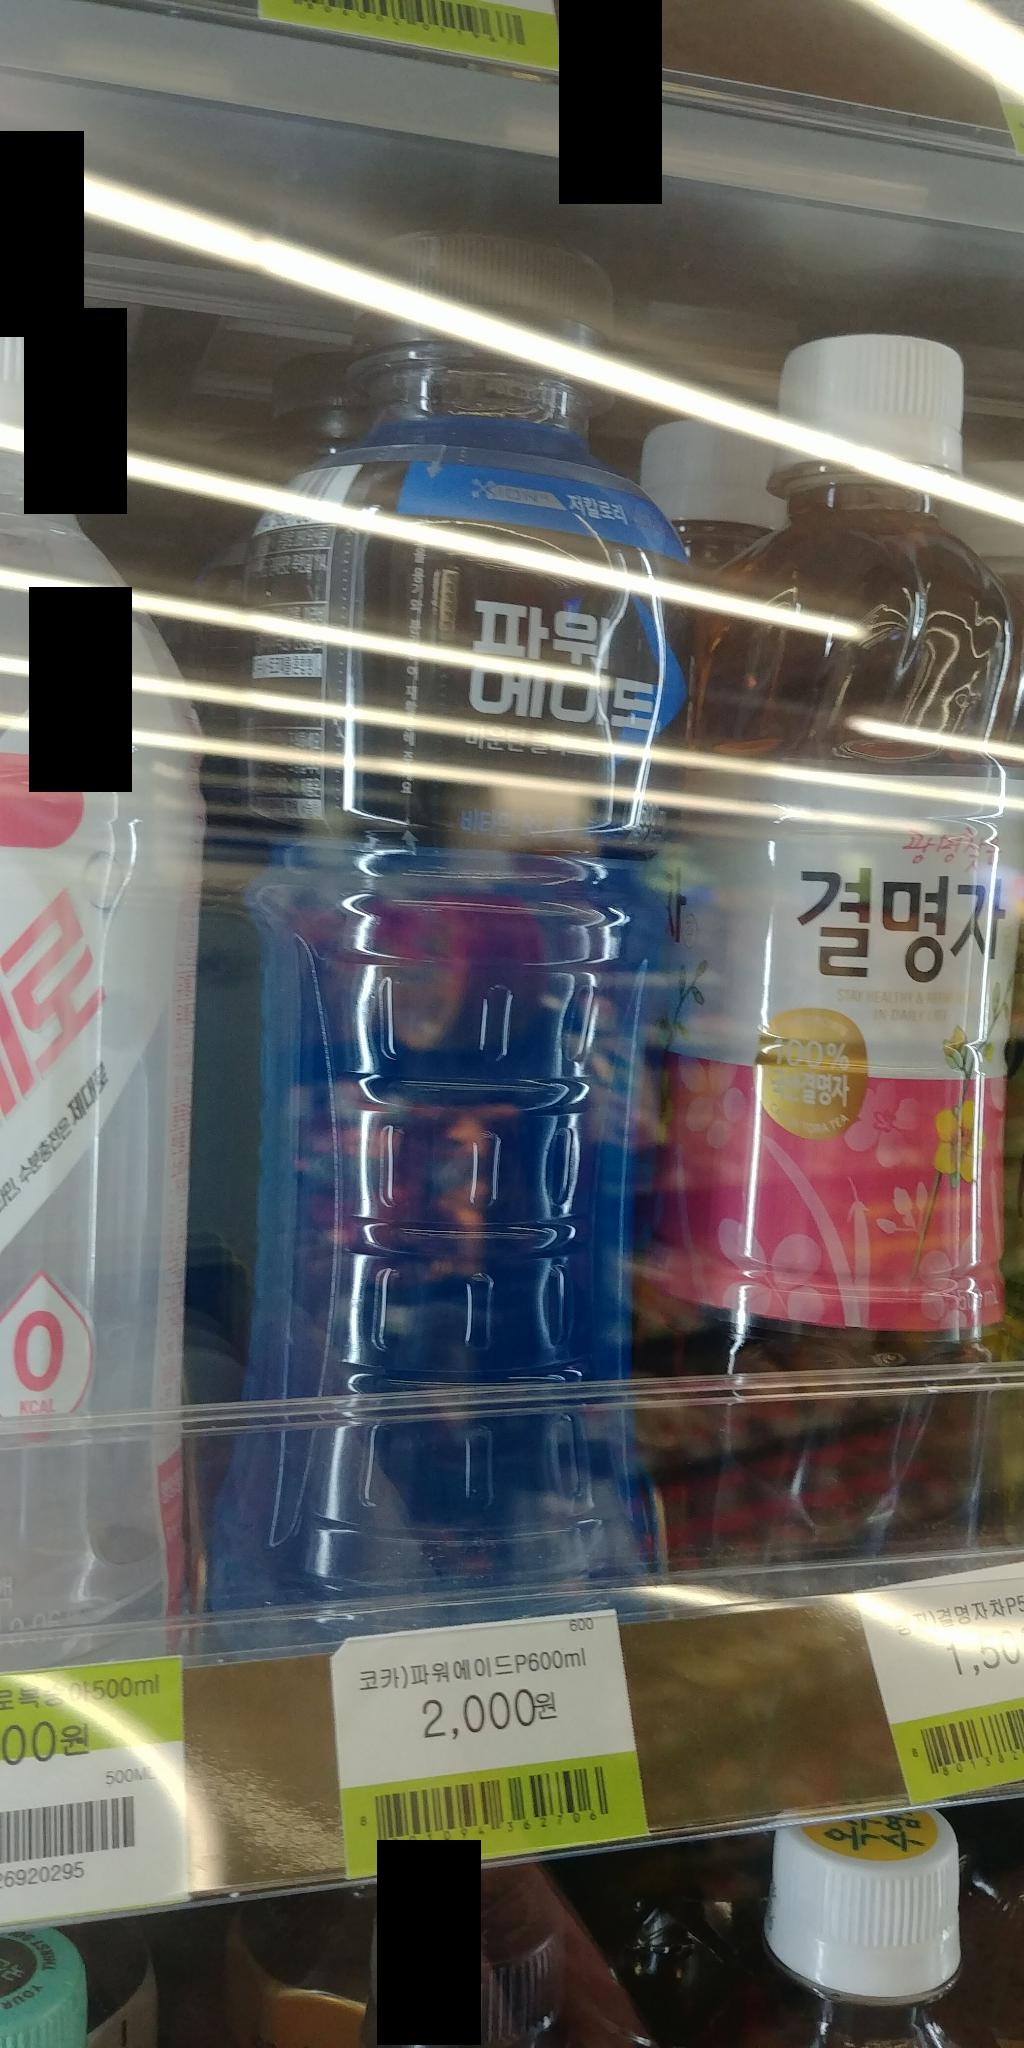powerade_mountainblast: (218, 206, 677, 1646)
